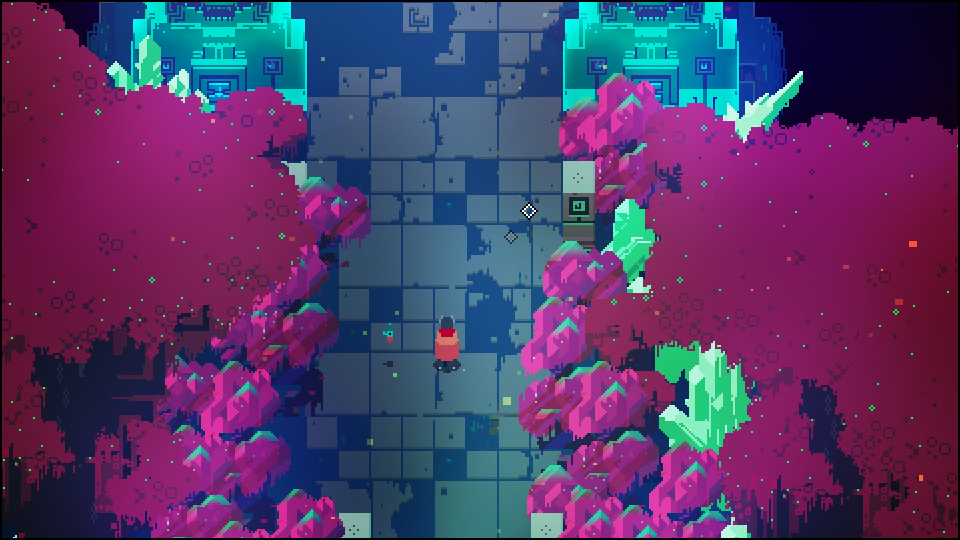player: (435, 319, 458, 373)
